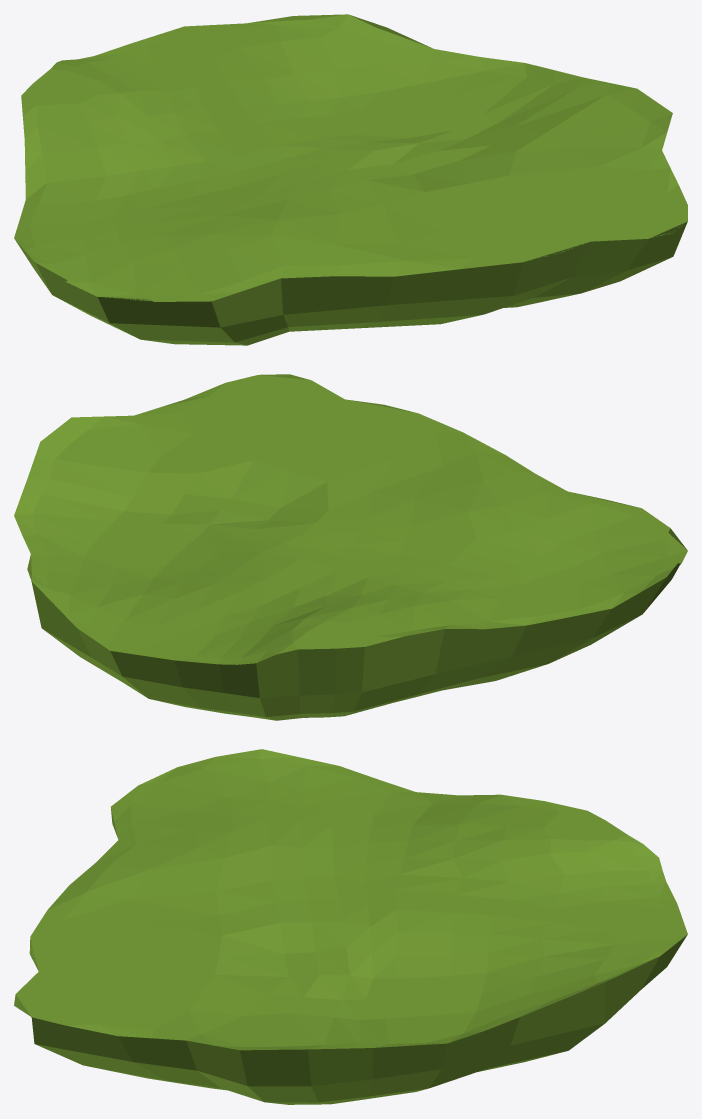
Rendered from mod_terrain02_separate.fbx.
The picture shows the model from 3 angles, top to bottom: view 1: azimuth 30°, elevation 25°; view 2: azimuth 150°, elevation 25°; view 3: azimuth 270°, elevation 25°; orthographic projection. The views are drawn at different scales.
Parts seen in each view (by area): view 1: mod_terrain01, mod_terrain01.001, mod_terrain01.002; view 2: mod_terrain01, mod_terrain01.001, mod_terrain01.002; view 3: mod_terrain01, mod_terrain01.001, mod_terrain01.002.
Part boxes in pixels (x1=…): mod_terrain01: x1=29, y1=25, x2=673, y2=294; mod_terrain01.001: x1=15, y1=14, x2=687, y2=345; mod_terrain01.002: x1=14, y1=14, x2=687, y2=301; mod_terrain01: x1=32, y1=380, x2=668, y2=657; mod_terrain01.001: x1=27, y1=374, x2=686, y2=720; mod_terrain01.002: x1=14, y1=374, x2=687, y2=664; mod_terrain01: x1=33, y1=759, x2=670, y2=1046; mod_terrain01.001: x1=14, y1=749, x2=687, y2=1104; mod_terrain01.002: x1=14, y1=749, x2=687, y2=1050.
Bounding box in the file's own units: 2252 × 406 × 2098.
